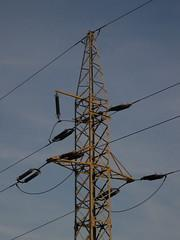power_tower: (34, 29, 139, 240)
